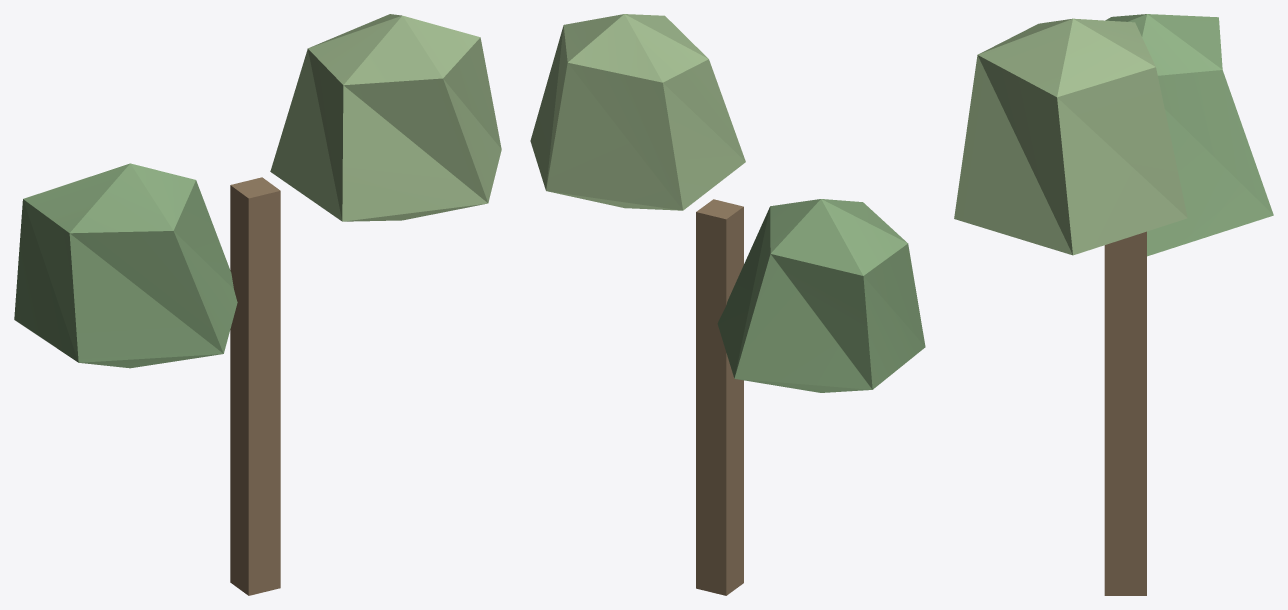
3 renders of one model, left to right at view 1: azimuth 30°, elevation 25°; view 2: azimuth 150°, elevation 25°; view 3: azimuth 270°, elevation 25°, orthographic. The views are drawn at different scales.
Visible parts, largest first — view 1: shrub_flower; view 2: shrub_flower; view 3: shrub_flower.
Boxes of the visible parts, bbox=[...] form: shrub_flower: bbox=[14, 14, 501, 595]; shrub_flower: bbox=[530, 14, 925, 595]; shrub_flower: bbox=[954, 14, 1273, 595].
Bounding box in the file's own units: 1.06 × 1.33 × 0.6046.
